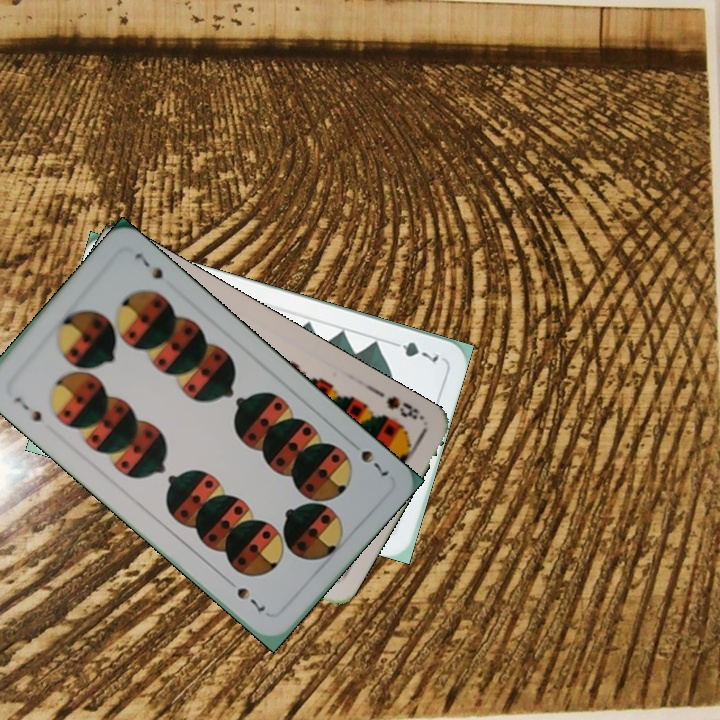G7: (385, 336, 442, 365)
S7: (356, 446, 392, 479), (10, 393, 45, 425)
S8: (382, 392, 427, 423)
